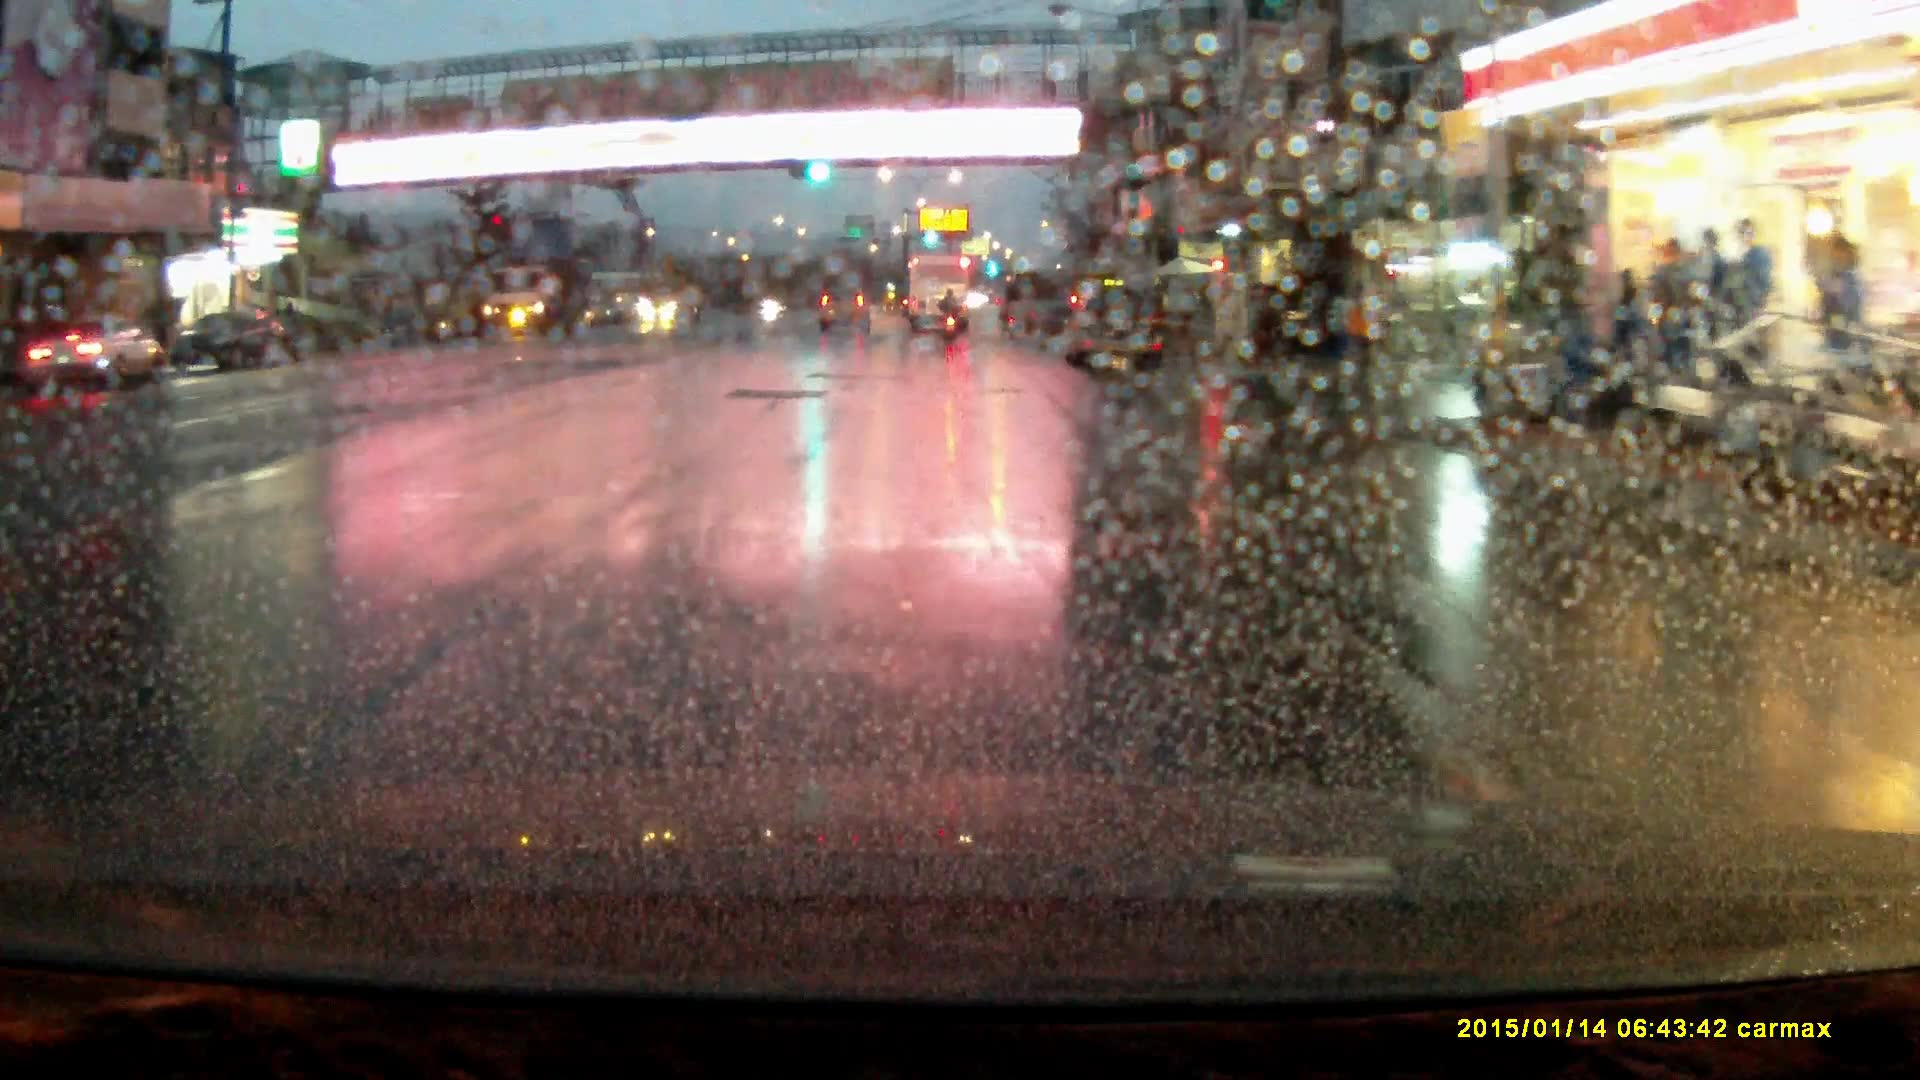rider: (940, 286, 964, 344)
vehicle: (35, 317, 157, 393), (1063, 287, 1162, 378), (165, 311, 295, 378), (481, 262, 588, 340), (1251, 282, 1338, 358), (908, 257, 974, 336), (638, 282, 707, 328), (819, 290, 873, 337)
